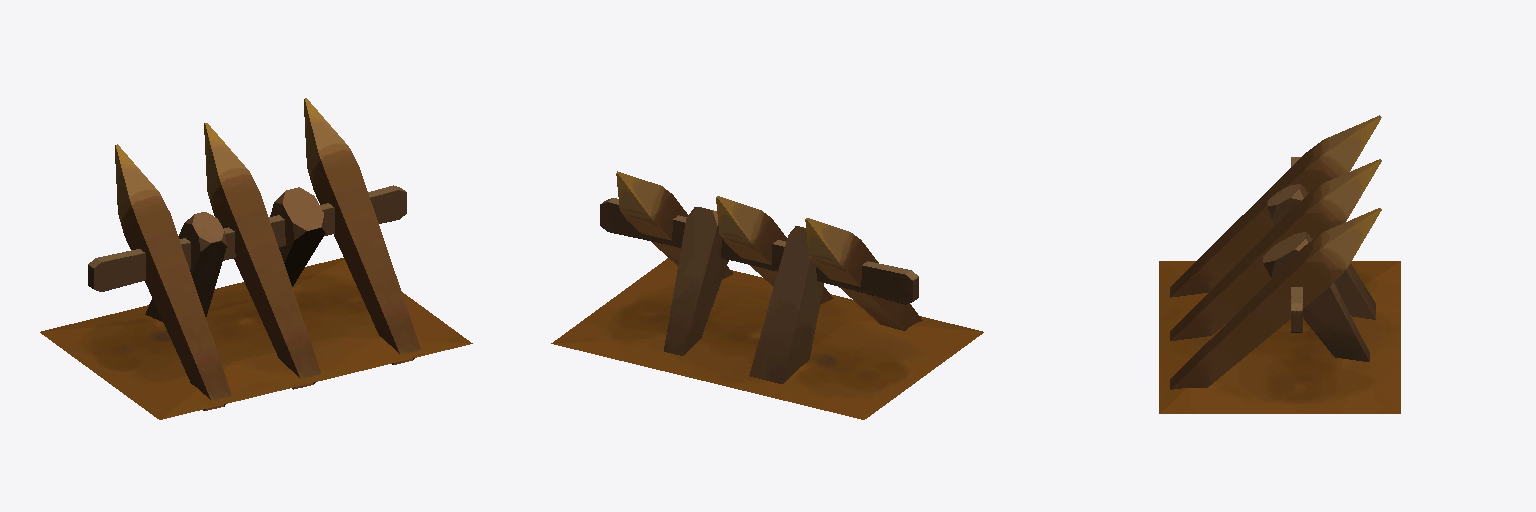
3 renders of one model, left to right at view 1: azimuth 30°, elevation 25°; view 2: azimuth 150°, elevation 25°; view 3: azimuth 270°, elevation 25°, orthographic.
Visible parts, largest first — view 1: OBJ_Barrier_B_02; view 2: OBJ_Barrier_B_02; view 3: OBJ_Barrier_B_02.
Boxes of the visible parts, x1,y1,x2,y2 form: OBJ_Barrier_B_02: [40, 98, 472, 419]; OBJ_Barrier_B_02: [551, 171, 983, 419]; OBJ_Barrier_B_02: [1159, 115, 1400, 413].
Bounding box in the file's own units: 3.6 × 2.12 × 2.4.
Materials: 1 (1 with a texture image).